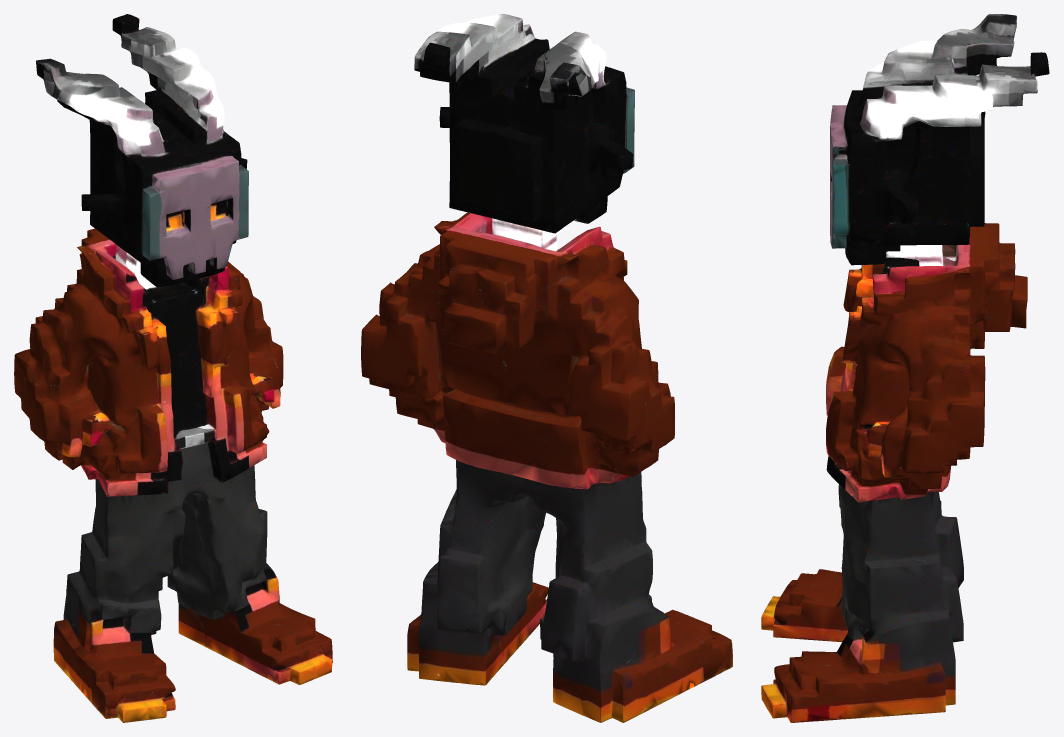
The model's file is Founder JJ standing.glb.
The picture shows the model from 3 angles, left to right: view 1: azimuth 30°, elevation 25°; view 2: azimuth 150°, elevation 25°; view 3: azimuth 270°, elevation 25°; orthographic projection. The views are drawn at different scales.
Bounding box in the file's own units: 0.8164 × 1.9 × 0.8002.
Materials: 1 (1 with a texture image).
